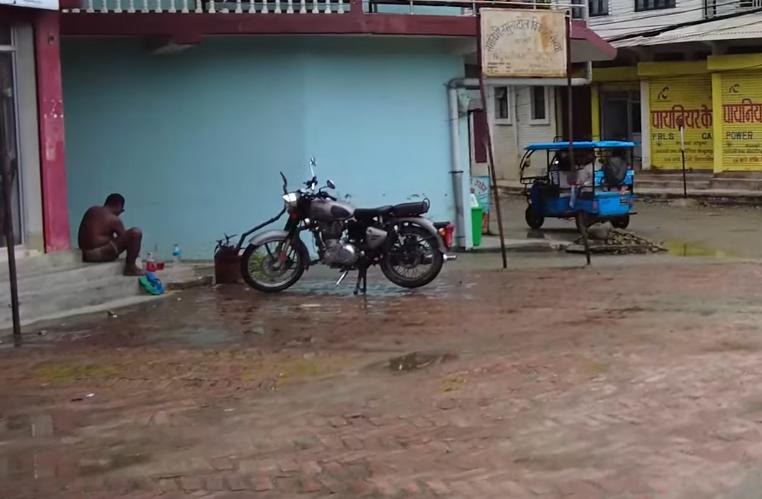bike: (232, 150, 459, 305)
